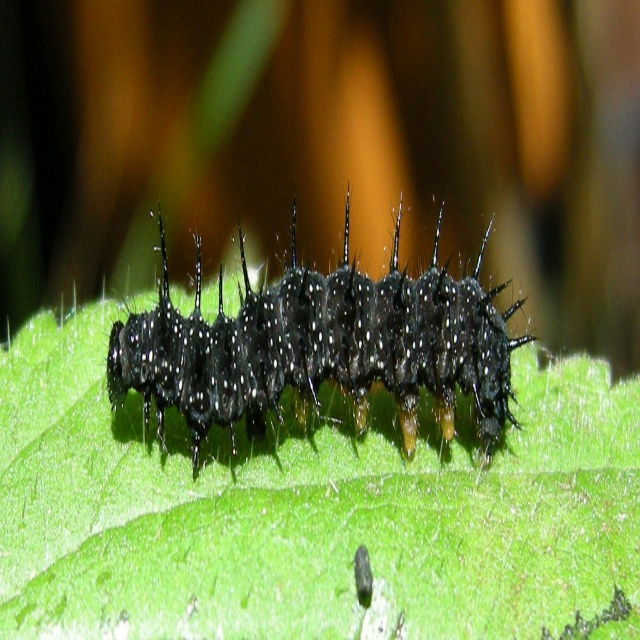Caterpillar: (100, 195, 542, 469)
